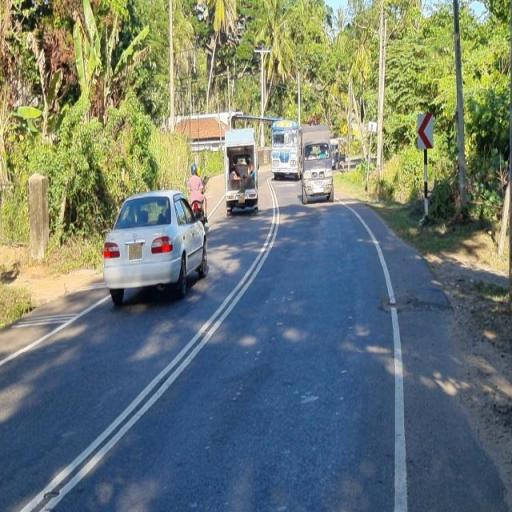double_white_line: (19, 181, 285, 511)
